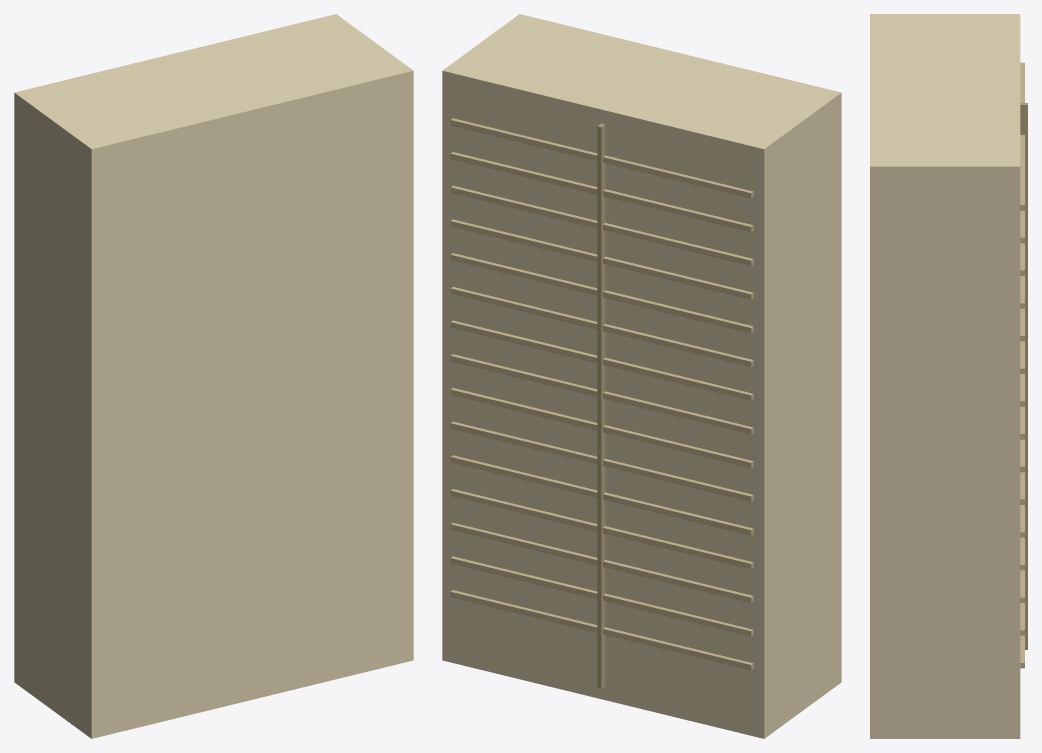
The model's file is closet.obj.
3 views of the same model, side by side, from view 1: azimuth 30°, elevation 25°; view 2: azimuth 150°, elevation 25°; view 3: azimuth 270°, elevation 25° (orthographic). The views are drawn at different scales.
Visible parts, largest first — view 1: closet_0; view 2: closet_0, closet_16, closet_5, closet_9, closet_10, closet_13, closet_14, closet_2, closet_3, closet_4, closet_8, closet_15 (+5 smaller); view 3: closet_0, closet_16, closet_15.
Part boxes in pixels (left/top/right/bottom): closet_0: left=14, top=14, right=413, bottom=738; closet_0: left=442, top=14, right=841, bottom=738; closet_16: left=597, top=123, right=605, bottom=688; closet_5: left=450, top=455, right=753, bottom=535; closet_9: left=450, top=320, right=753, bottom=400; closet_10: left=450, top=287, right=753, bottom=367; closet_13: left=450, top=185, right=753, bottom=265; closet_14: left=450, top=152, right=753, bottom=232; closet_2: left=450, top=556, right=753, bottom=636; closet_3: left=450, top=522, right=753, bottom=602; closet_4: left=450, top=489, right=753, bottom=569; closet_8: left=450, top=354, right=753, bottom=434; closet_15: left=450, top=118, right=753, bottom=198; closet_0: left=870, top=14, right=1020, bottom=738; closet_16: left=1020, top=103, right=1027, bottom=649; closet_15: left=1020, top=62, right=1024, bottom=210.
Bounding box in the file's own units: 1.2 × 2.1 × 0.525.
